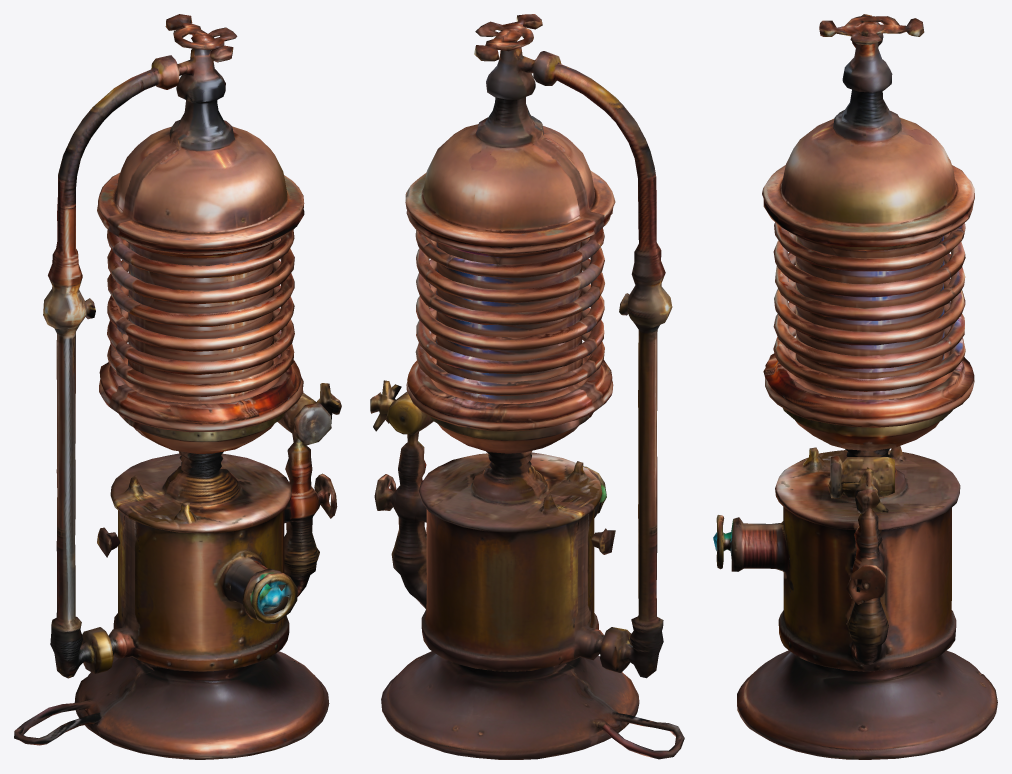
File: Bobina_de_Tesla_vinta_1203174451_texture.glb
3 views of the same model, side by side, from view 1: azimuth 30°, elevation 25°; view 2: azimuth 150°, elevation 25°; view 3: azimuth 270°, elevation 25° (orthographic).
Size of the model in its own units: 0.9737 by 2.01 by 0.7567.
1 material, 1 textured.
